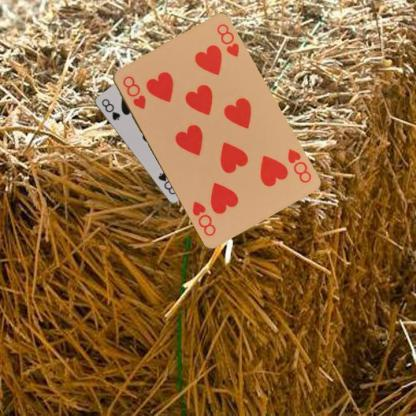8h: (284, 146, 313, 184), (120, 73, 147, 110)
8s: (99, 96, 121, 121)
